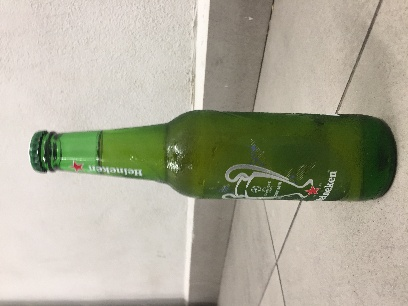HB: (20, 81, 287, 146)
